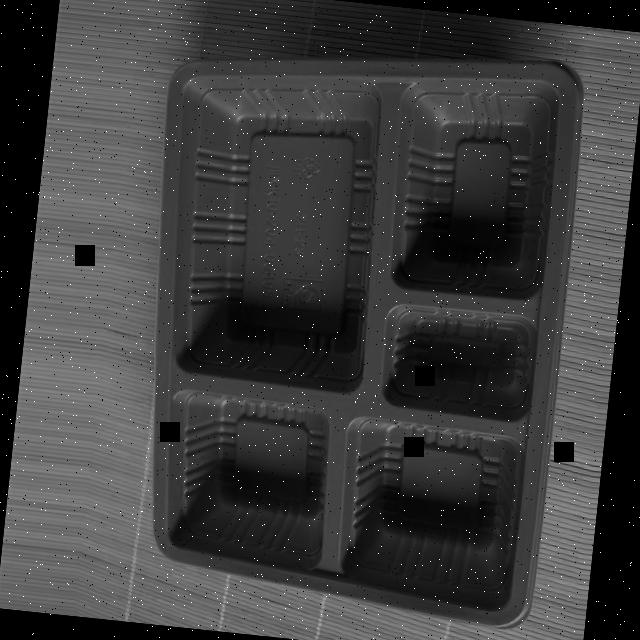plastic_box: (108, 15, 593, 640)
